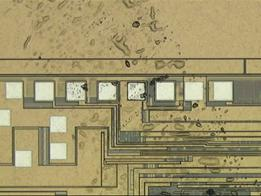PO CONTAMINATION: (1, 1, 261, 196)
